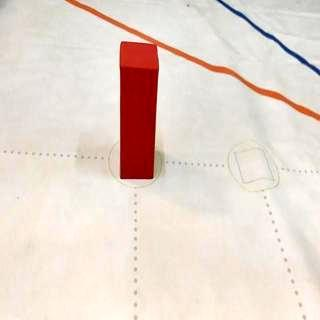redbox: (121, 41, 159, 180)
